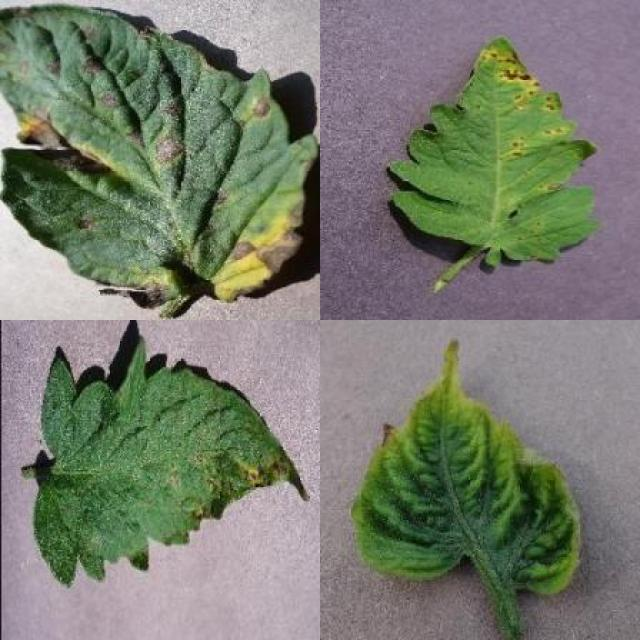Early Blight: (0, 5, 319, 305)
Septoria: (33, 335, 313, 589), (385, 34, 596, 266)
Yellow Leaf Curl Virus: (356, 335, 584, 595)
